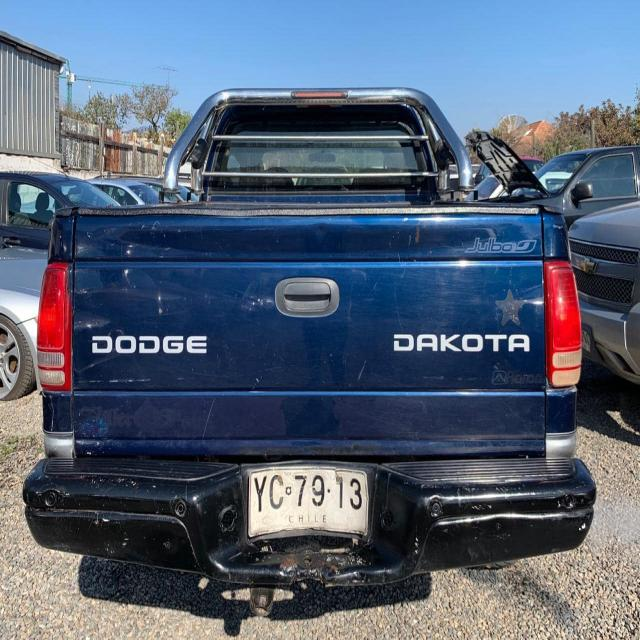patente: (242, 460, 376, 546)
